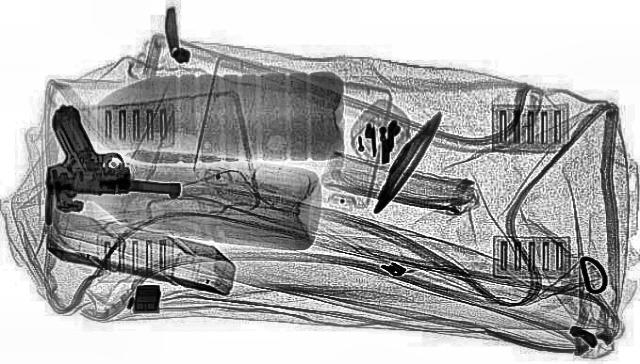Gun: (10, 102, 136, 202), (36, 161, 188, 201)
